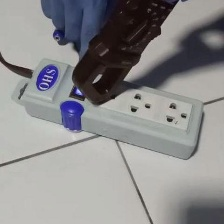three_eye_plug: (10, 54, 208, 162)
